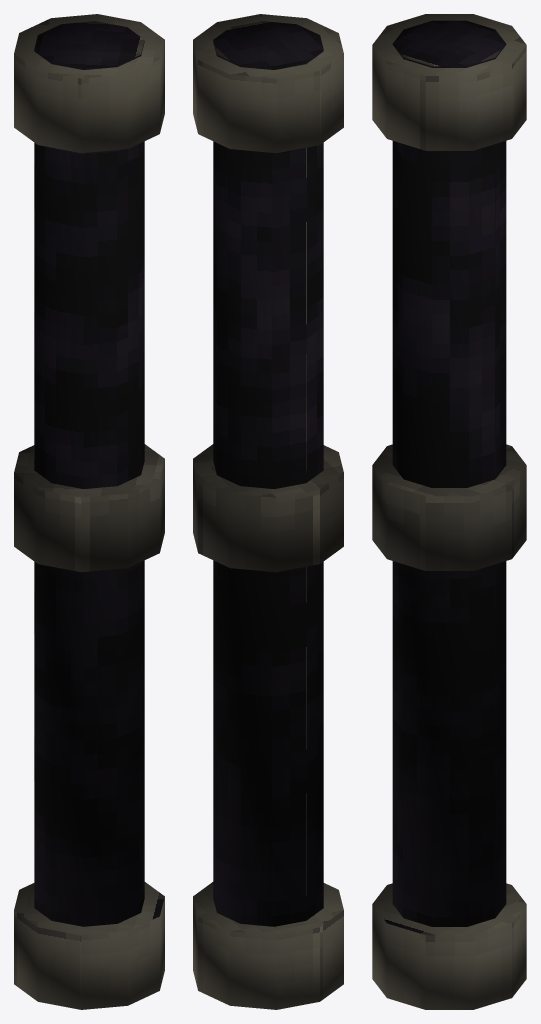
The model's file is rook_bars_post.obj.
3 views of the same model, side by side, from view 1: azimuth 30°, elevation 25°; view 2: azimuth 150°, elevation 25°; view 3: azimuth 270°, elevation 25° (orthographic).
Parts seen in each view (by area): view 1: part0, part1; view 2: part0, part1; view 3: part0, part1.
Boxes of the visible parts, x1,y1,x2,y2 form: part0: (34, 21, 144, 926); part1: (14, 14, 164, 1009); part0: (213, 21, 323, 926); part1: (193, 14, 343, 1009); part0: (392, 20, 506, 926); part1: (372, 14, 526, 1009).
Size of the model in its own units: 0.1427 by 1 by 0.15.
